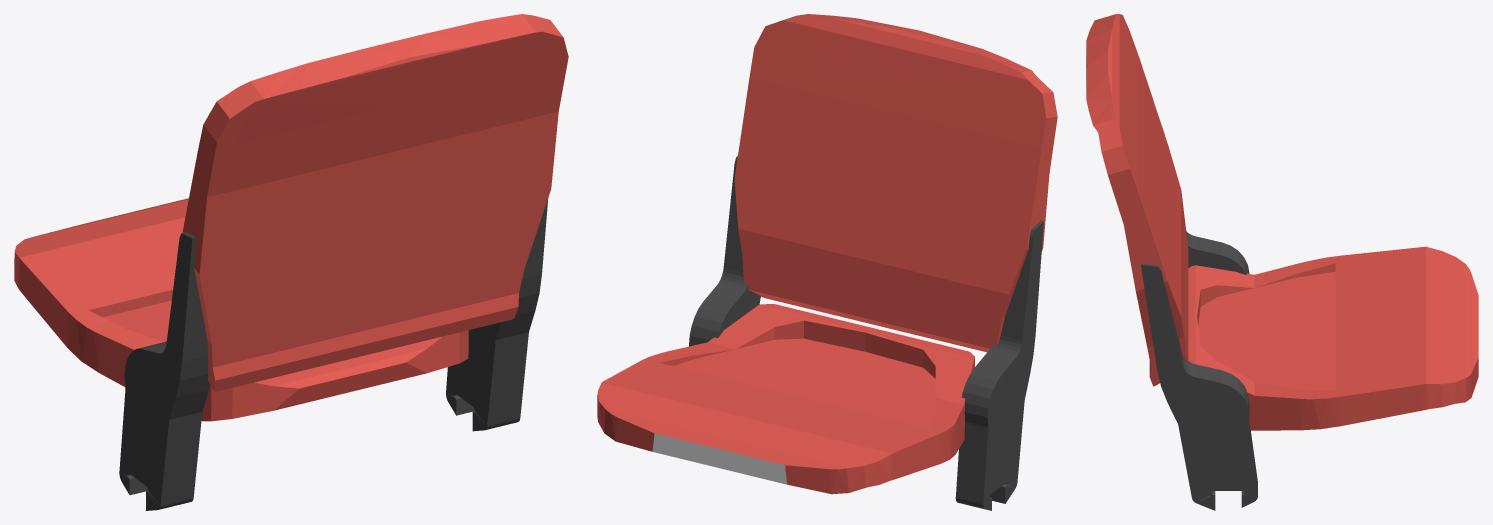
File: seat_red_origin.glb
The picture shows the model from 3 angles, left to right: view 1: azimuth 30°, elevation 25°; view 2: azimuth 150°, elevation 25°; view 3: azimuth 270°, elevation 25°; orthographic projection. The views are drawn at different scales.
Visible parts, largest first — view 1: StaticModelFinal_m_1.007, StaticModelFinal_m_3.007; view 2: StaticModelFinal_m_1.007, StaticModelFinal_m_3.007, StaticModelFinal_m_2.007; view 3: StaticModelFinal_m_1.007, StaticModelFinal_m_3.007.
Part boxes in pixels (x1=…): StaticModelFinal_m_1.007: x1=14, y1=14, x2=568, y2=421; StaticModelFinal_m_3.007: x1=119, y1=198, x2=548, y2=510; StaticModelFinal_m_1.007: x1=597, y1=14, x2=1057, y2=494; StaticModelFinal_m_3.007: x1=689, y1=156, x2=1043, y2=510; StaticModelFinal_m_2.007: x1=652, y1=433, x2=786, y2=484; StaticModelFinal_m_1.007: x1=1086, y1=14, x2=1478, y2=430; StaticModelFinal_m_3.007: x1=1141, y1=231, x2=1257, y2=510.
Bounding box in the file's own units: 0.4454 × 0.5601 × 0.5232.
